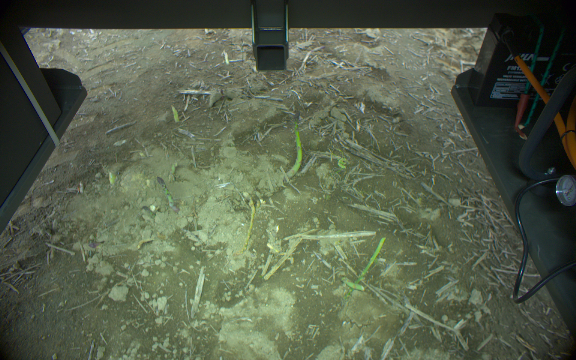aspa: (346, 235, 386, 295), (282, 111, 303, 179), (156, 176, 178, 211), (337, 274, 367, 294)
